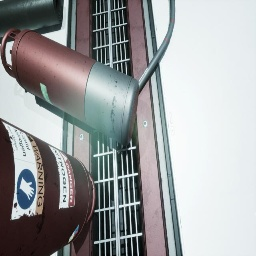NitrogenTank ,: (0, 28, 139, 146), (0, 118, 96, 256)
